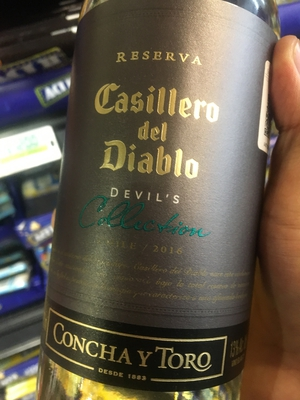casillero del diablo devils collection verde: (43, 1, 283, 398)
